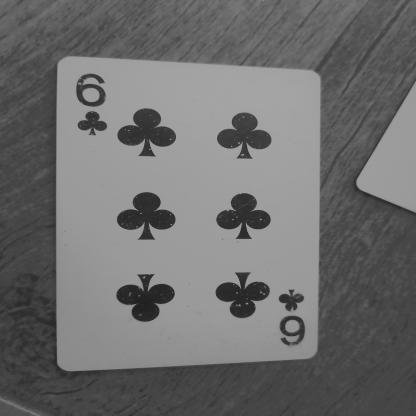6C: (68, 70, 126, 138), (268, 280, 316, 348)
